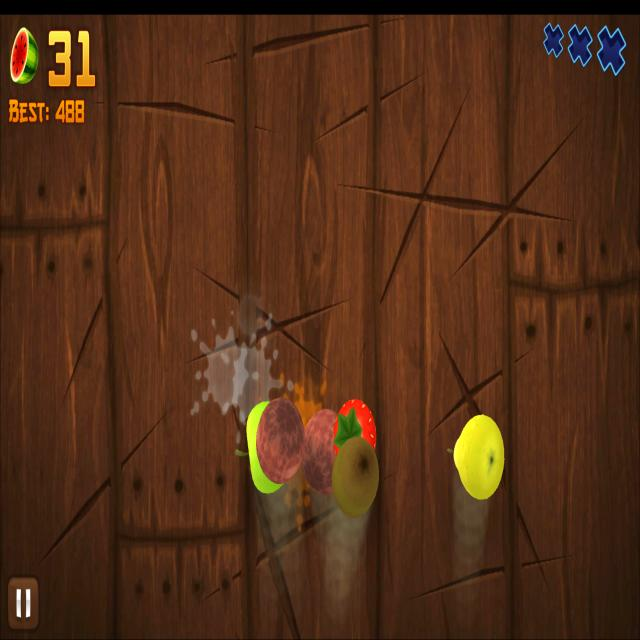fruit: (453, 413, 505, 499), (256, 396, 304, 483), (247, 401, 286, 494), (334, 437, 378, 518), (300, 409, 338, 492), (334, 400, 378, 456)
